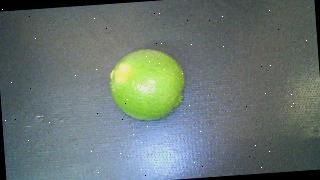EXPORTACION: (107, 46, 187, 122)
